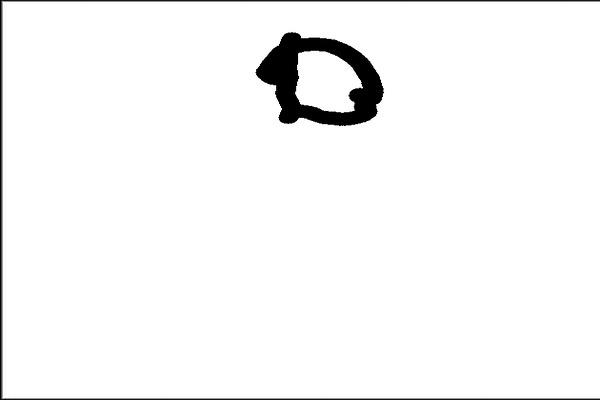D: (250, 27, 389, 129)
